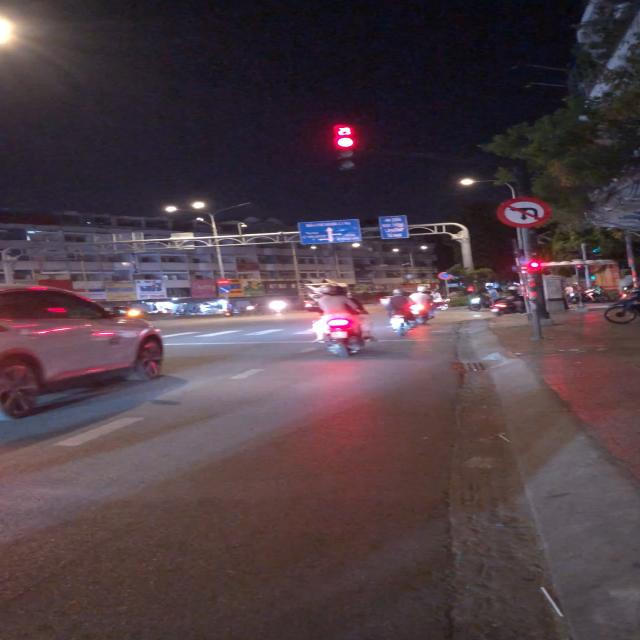Bien bao cam re trai va quay dau: (495, 195, 553, 229)
